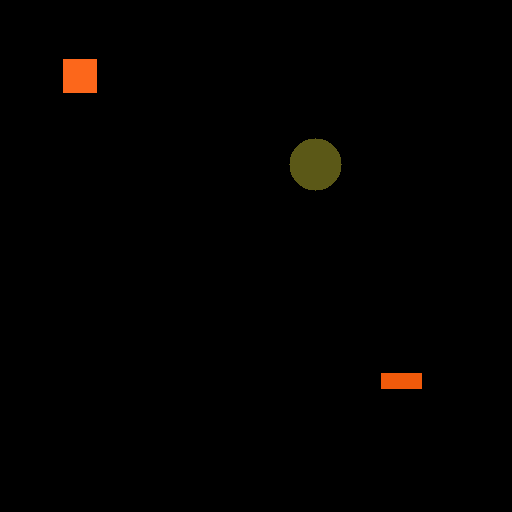circle: (281, 139, 344, 194)
side_rect: (378, 364, 426, 397)
square: (57, 58, 101, 97)
